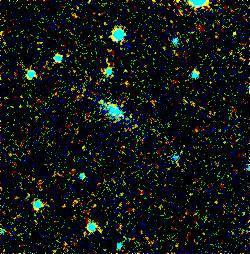star: (221, 20, 250, 50)
